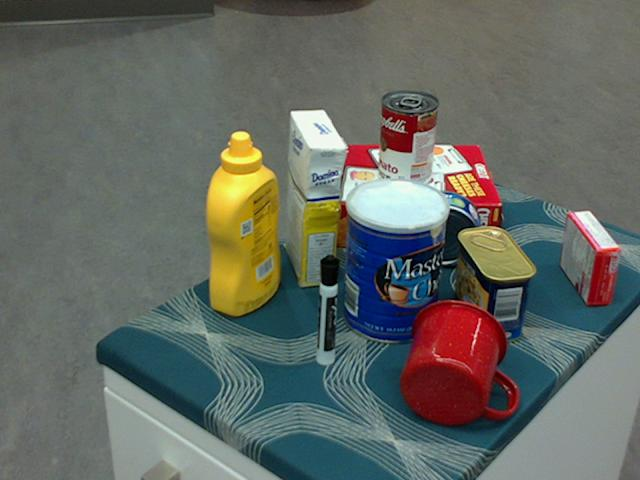cracker_box: (316, 143, 501, 250)
gelatin_box: (560, 210, 621, 306)
large_marker: (315, 254, 338, 367)
master_chef_can: (343, 177, 450, 344)
mug: (400, 298, 516, 425)
mustard_bottle: (205, 131, 281, 317)
potted_meat_can: (454, 226, 537, 342)
sugar_box: (285, 110, 344, 289)
tomato_soup_can: (379, 91, 439, 190)
tuna_fish_can: (406, 190, 480, 265)
